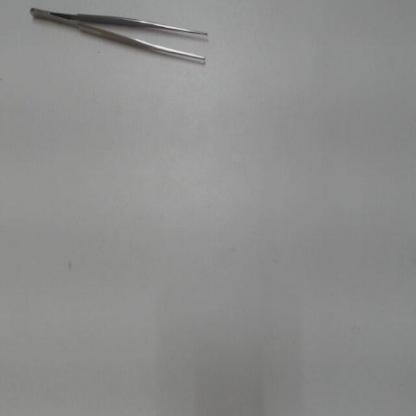Gillies Toothed Dissector: (22, 3, 222, 80)
